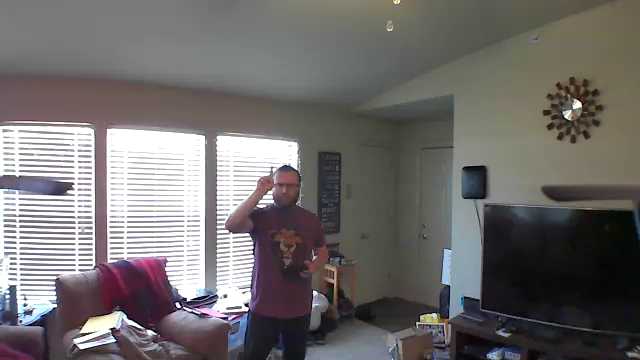up: (256, 160, 279, 198)
